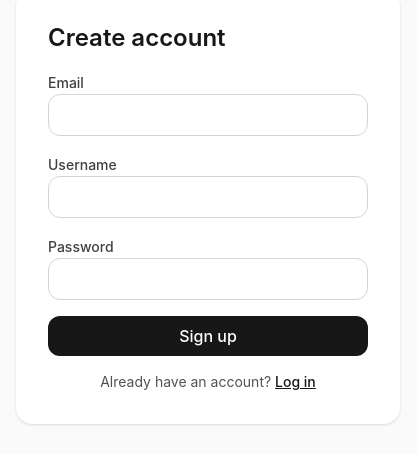
Test case: SignupPage validation › shows an error for a bad email
In the field labelled "Email": (208, 115) [48,94,368,136], type "not-an-email"
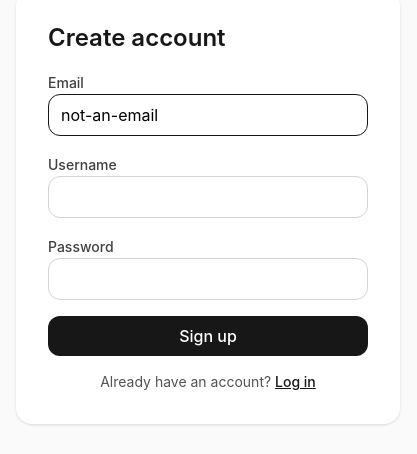
In the field labelled "Username": (208, 197) [48,176,368,218], type "alice"
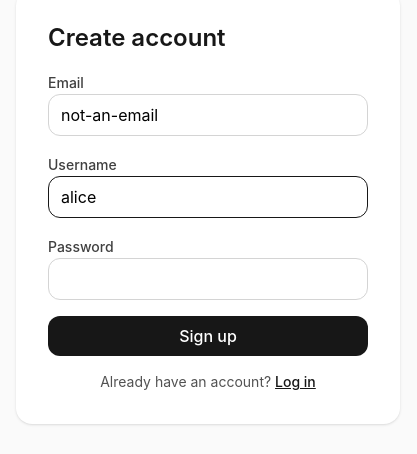
In the password field labelled "Password": (208, 279) [48,258,368,300], type "longenough"
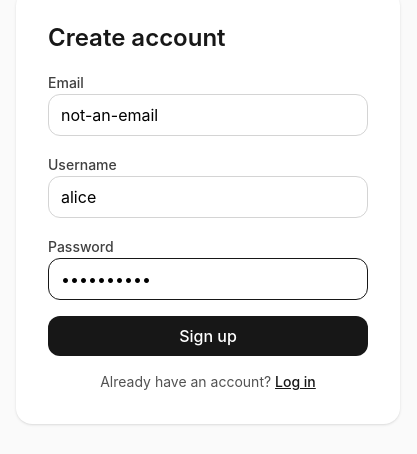
Click the button "Sign up": click(208, 336) [48,316,368,356]
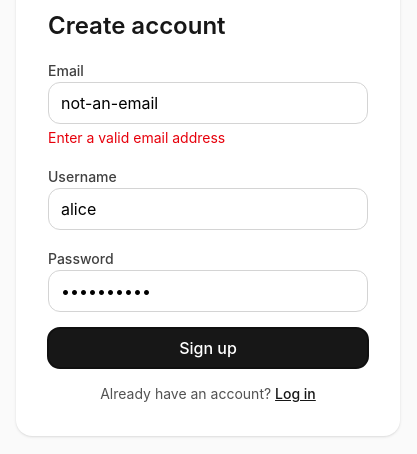
expect the text "Enter a valid email address" is shown: met, box [48,129,225,146]
